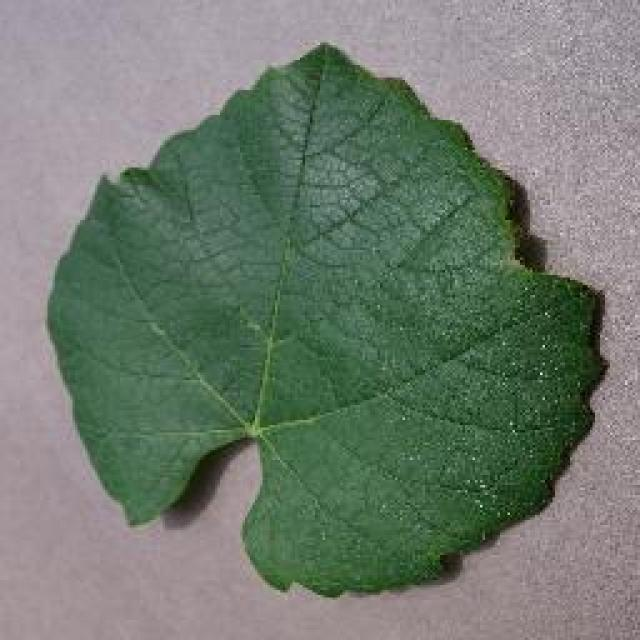Grape___healthy: (37, 35, 616, 605)
